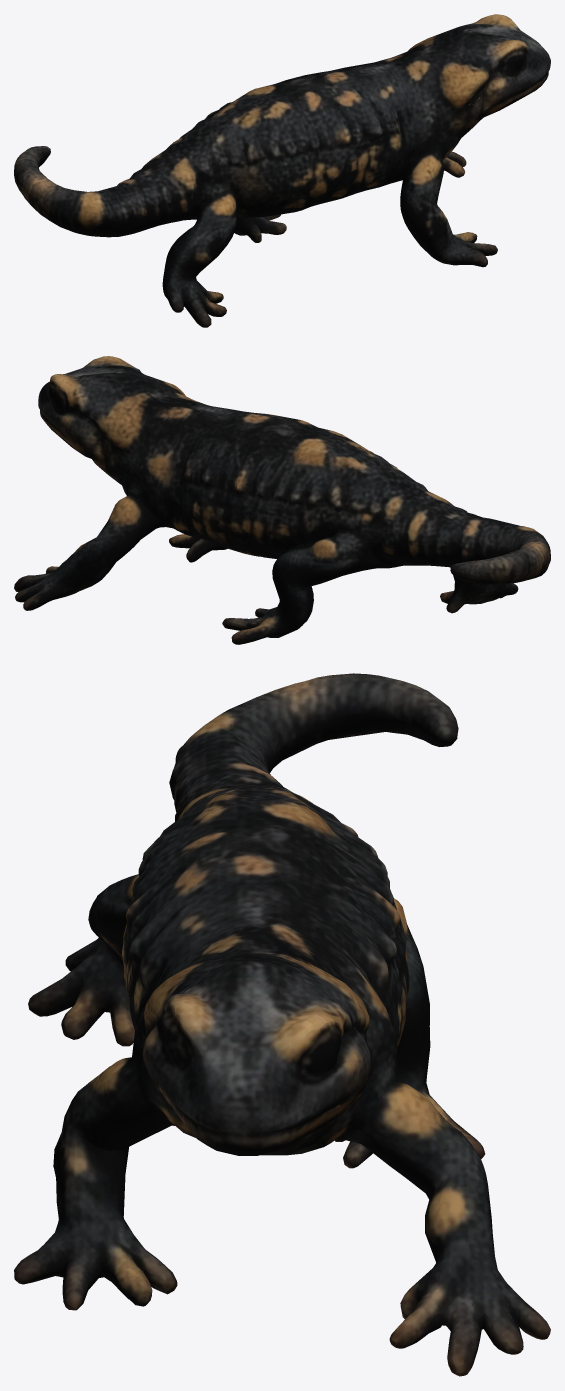
The model's file is fire-salamander-v21.glb.
3 views of the same model, one above another, from view 1: azimuth 30°, elevation 25°; view 2: azimuth 150°, elevation 25°; view 3: azimuth 270°, elevation 25° (orthographic). The views are drawn at different scales.
Visible parts, largest first — view 1: geometry_0; view 2: geometry_0; view 3: geometry_0.
Part boxes in pixels (left/top/right/bottom): geometry_0: left=14, top=14, right=550, bottom=327; geometry_0: left=14, top=356, right=550, bottom=644; geometry_0: left=14, top=673, right=550, bottom=1376.
Bounding box in the file's own units: 0.1799 × 0.0649 × 0.0847.
1 material, 1 textured.
